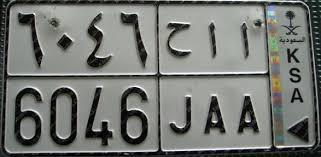0: (50, 33, 78, 146)
4: (84, 11, 114, 147)
6: (13, 11, 44, 146), (119, 11, 149, 146)
A: (237, 22, 261, 136), (204, 22, 227, 137)
J: (166, 21, 195, 134)
